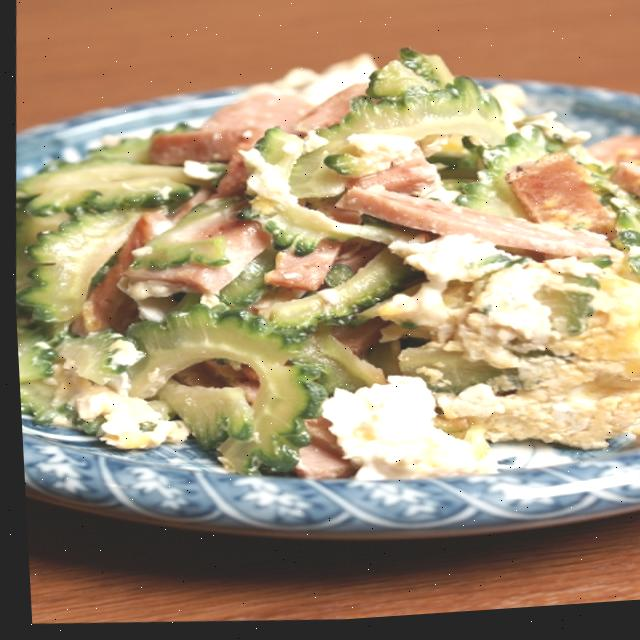熟制海鲜: (1, 0, 640, 604)
